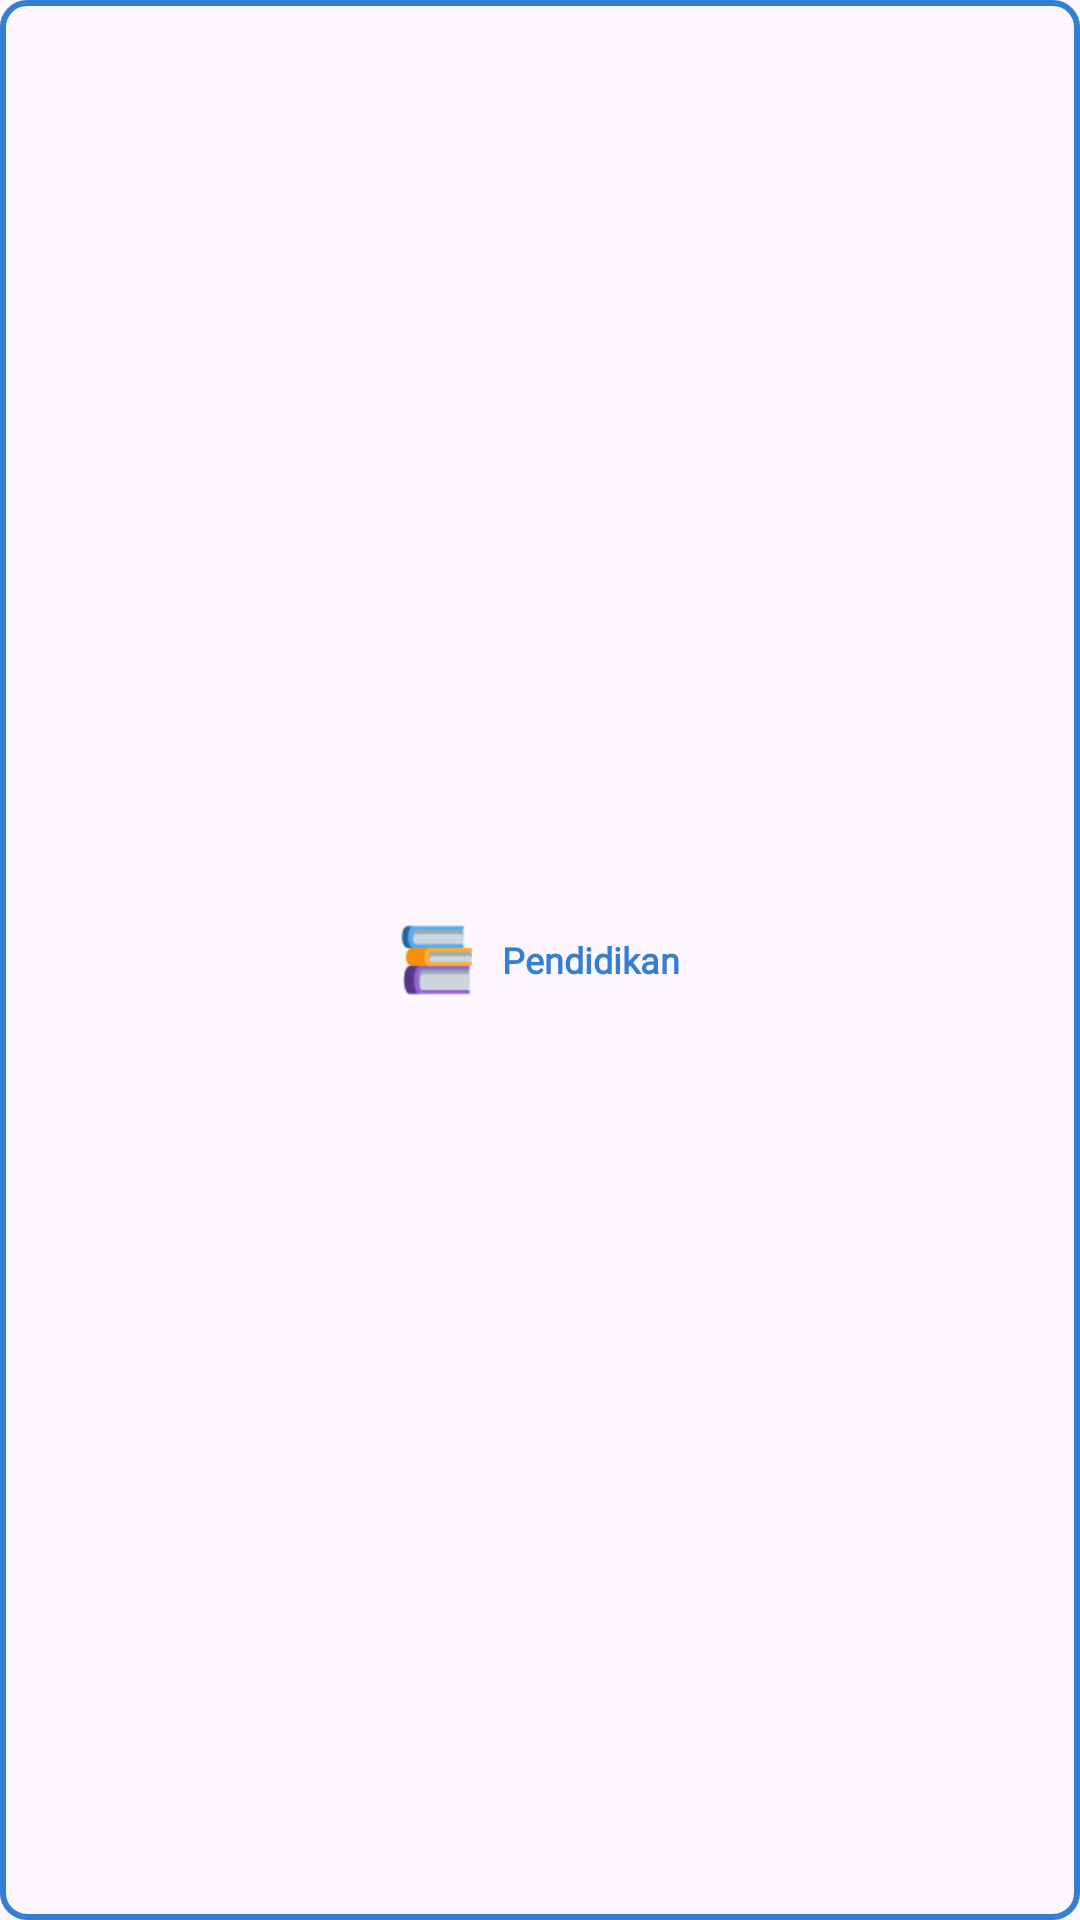

Locate icon controls on the screen. Image size 1080×1920, boxes as [x1, y1, x2, y2].
books: [401, 925, 472, 995]
